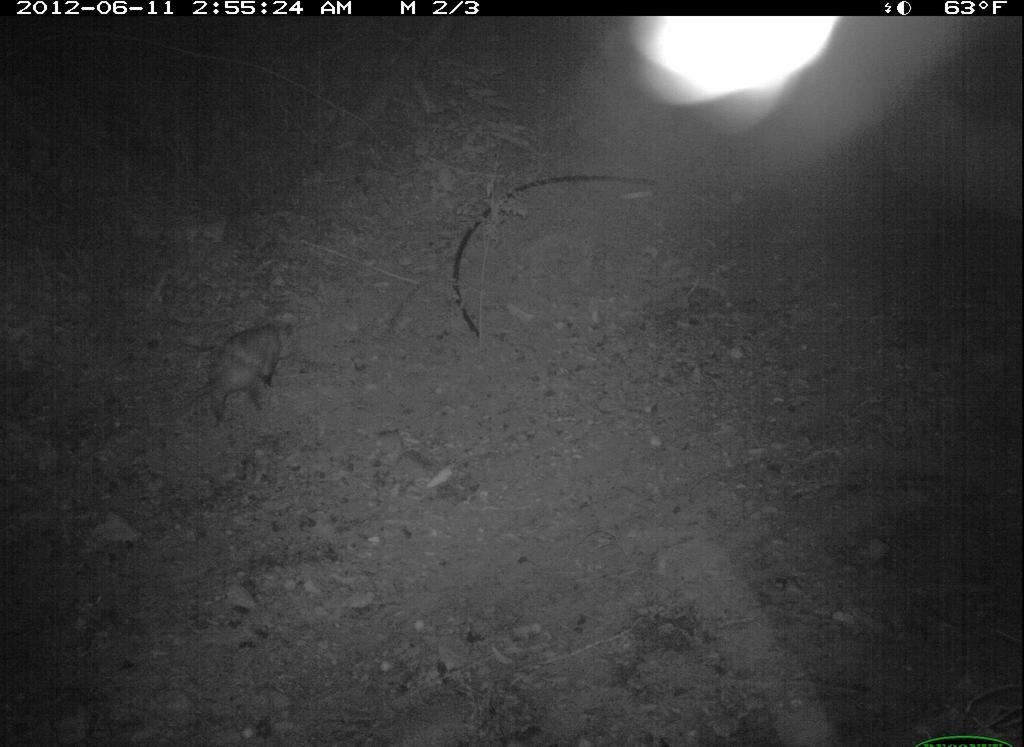opossum: (162, 315, 300, 431)
